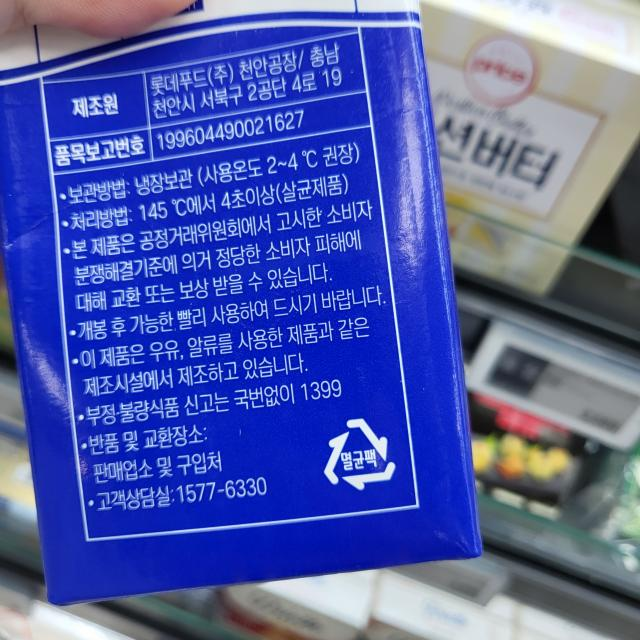SterilizedPack: (316, 413, 396, 494)
